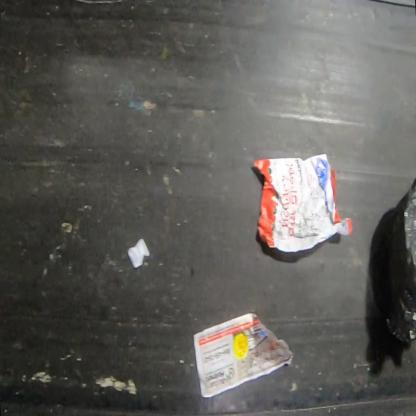soft_plastic: (387, 179, 415, 343)
